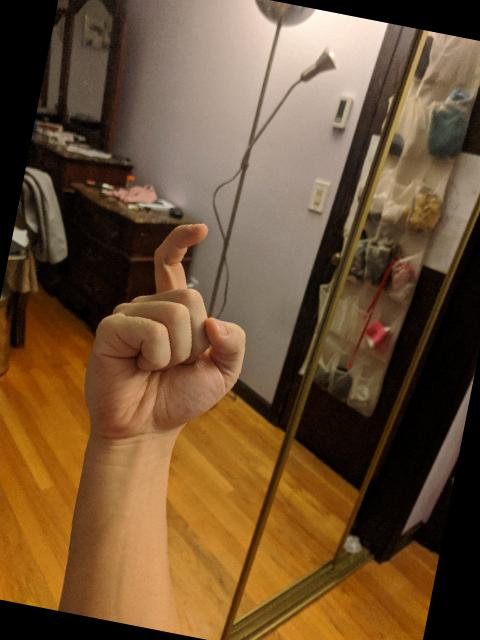X: (70, 203, 272, 467)
